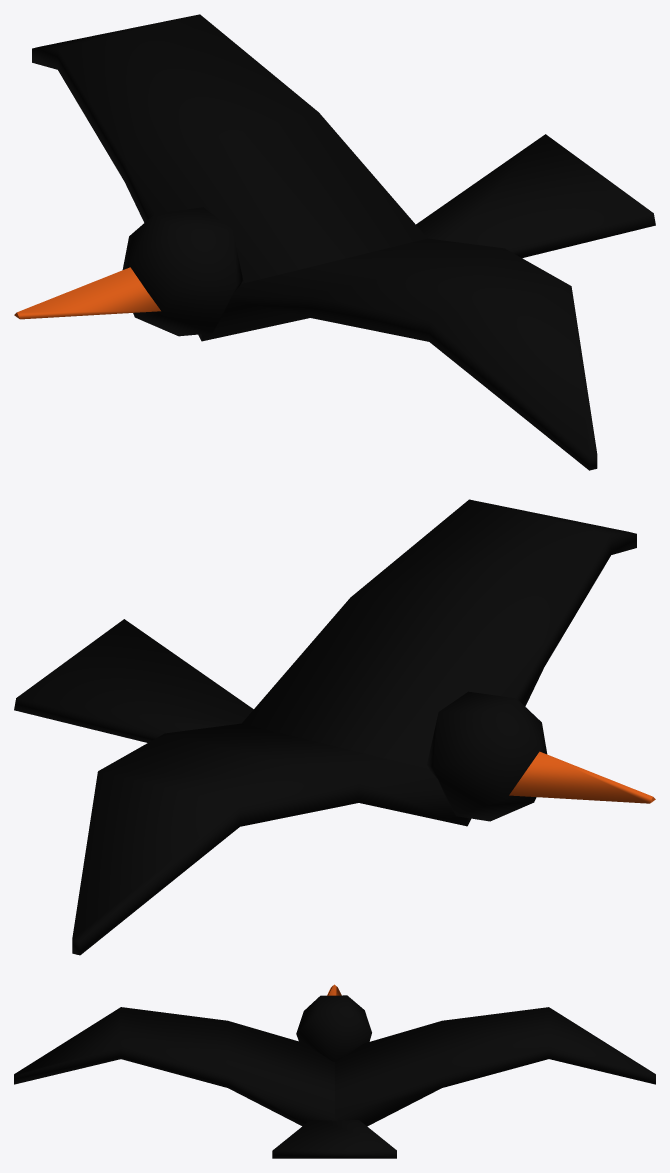
File: Bird.FBX
The picture shows the model from 3 angles, top to bottom: view 1: azimuth 30°, elevation 25°; view 2: azimuth 150°, elevation 25°; view 3: azimuth 270°, elevation 25°; orthographic projection. The views are drawn at different scales.
Parts seen in each view (by area): view 1: Box005; view 2: Box005; view 3: Box005.
Part boxes in pixels (x1=…): Box005: x1=14, y1=14, x2=655, y2=470; Box005: x1=14, y1=499, x2=655, y2=955; Box005: x1=14, y1=984, x2=655, y2=1158.
Size of the model in its own units: 9.85 by 2.35 by 16.25.
